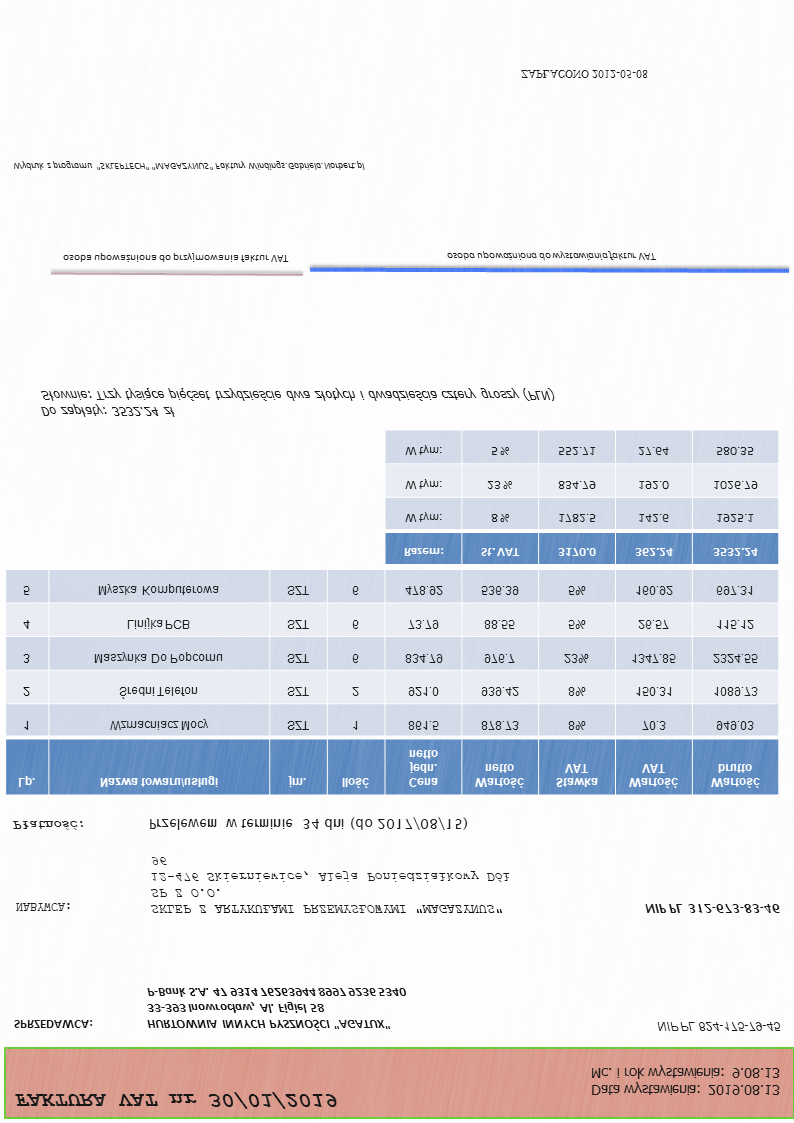Table: (4, 568, 780, 797), (384, 430, 780, 566), (38, 385, 556, 421)
TextBox: (146, 853, 513, 918), (144, 984, 408, 1032), (12, 1088, 338, 1113), (587, 1065, 782, 1100), (146, 815, 469, 833), (10, 158, 367, 174), (59, 251, 290, 265), (444, 249, 658, 263), (641, 900, 782, 917), (654, 1018, 782, 1035), (519, 68, 649, 82), (11, 1016, 94, 1032), (11, 817, 85, 834), (12, 901, 73, 915)
